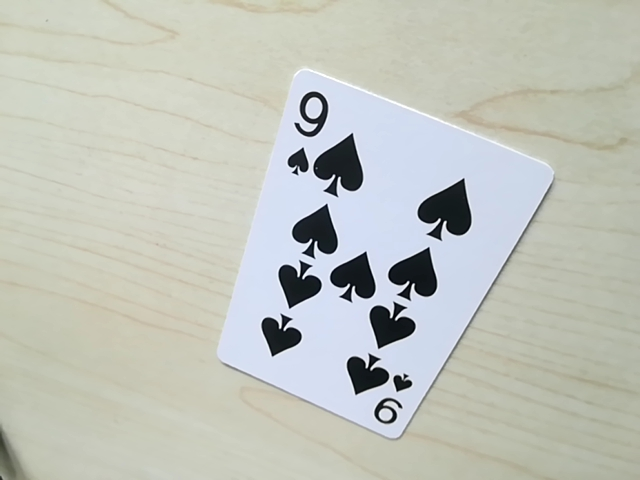ht 9: (279, 79, 341, 188), (361, 377, 419, 432)
